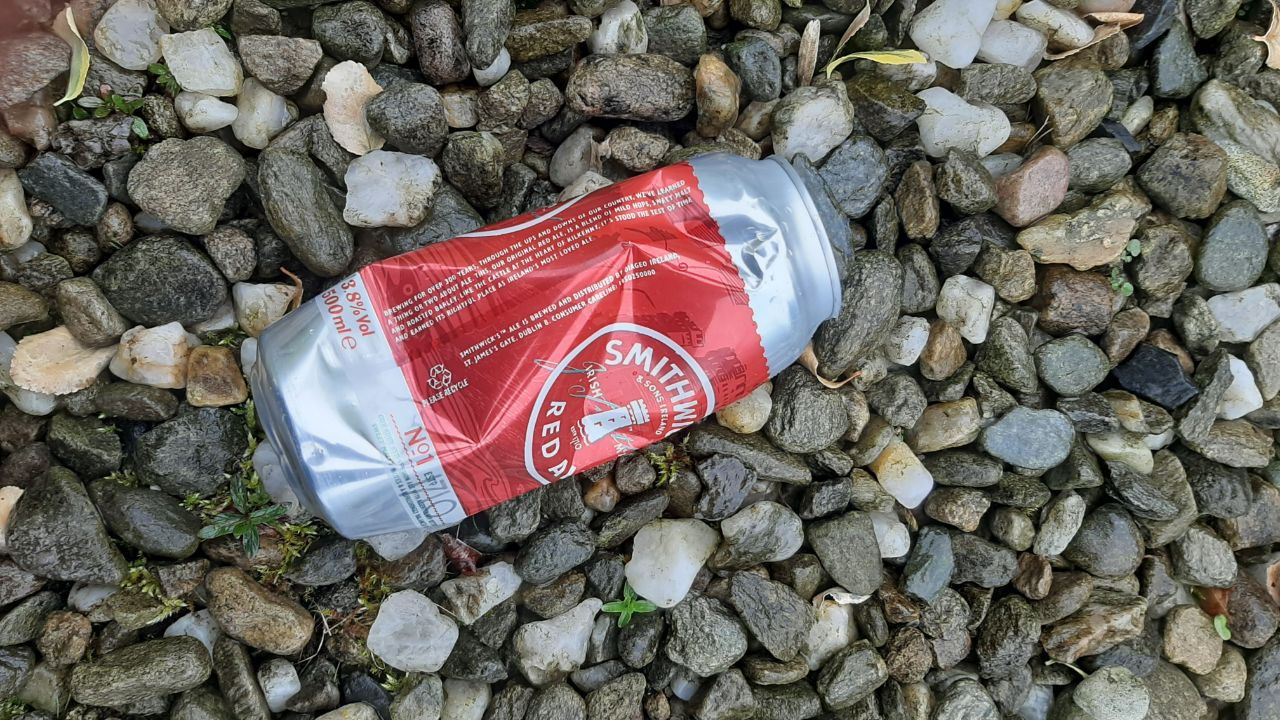Can: (247, 153, 842, 539)
